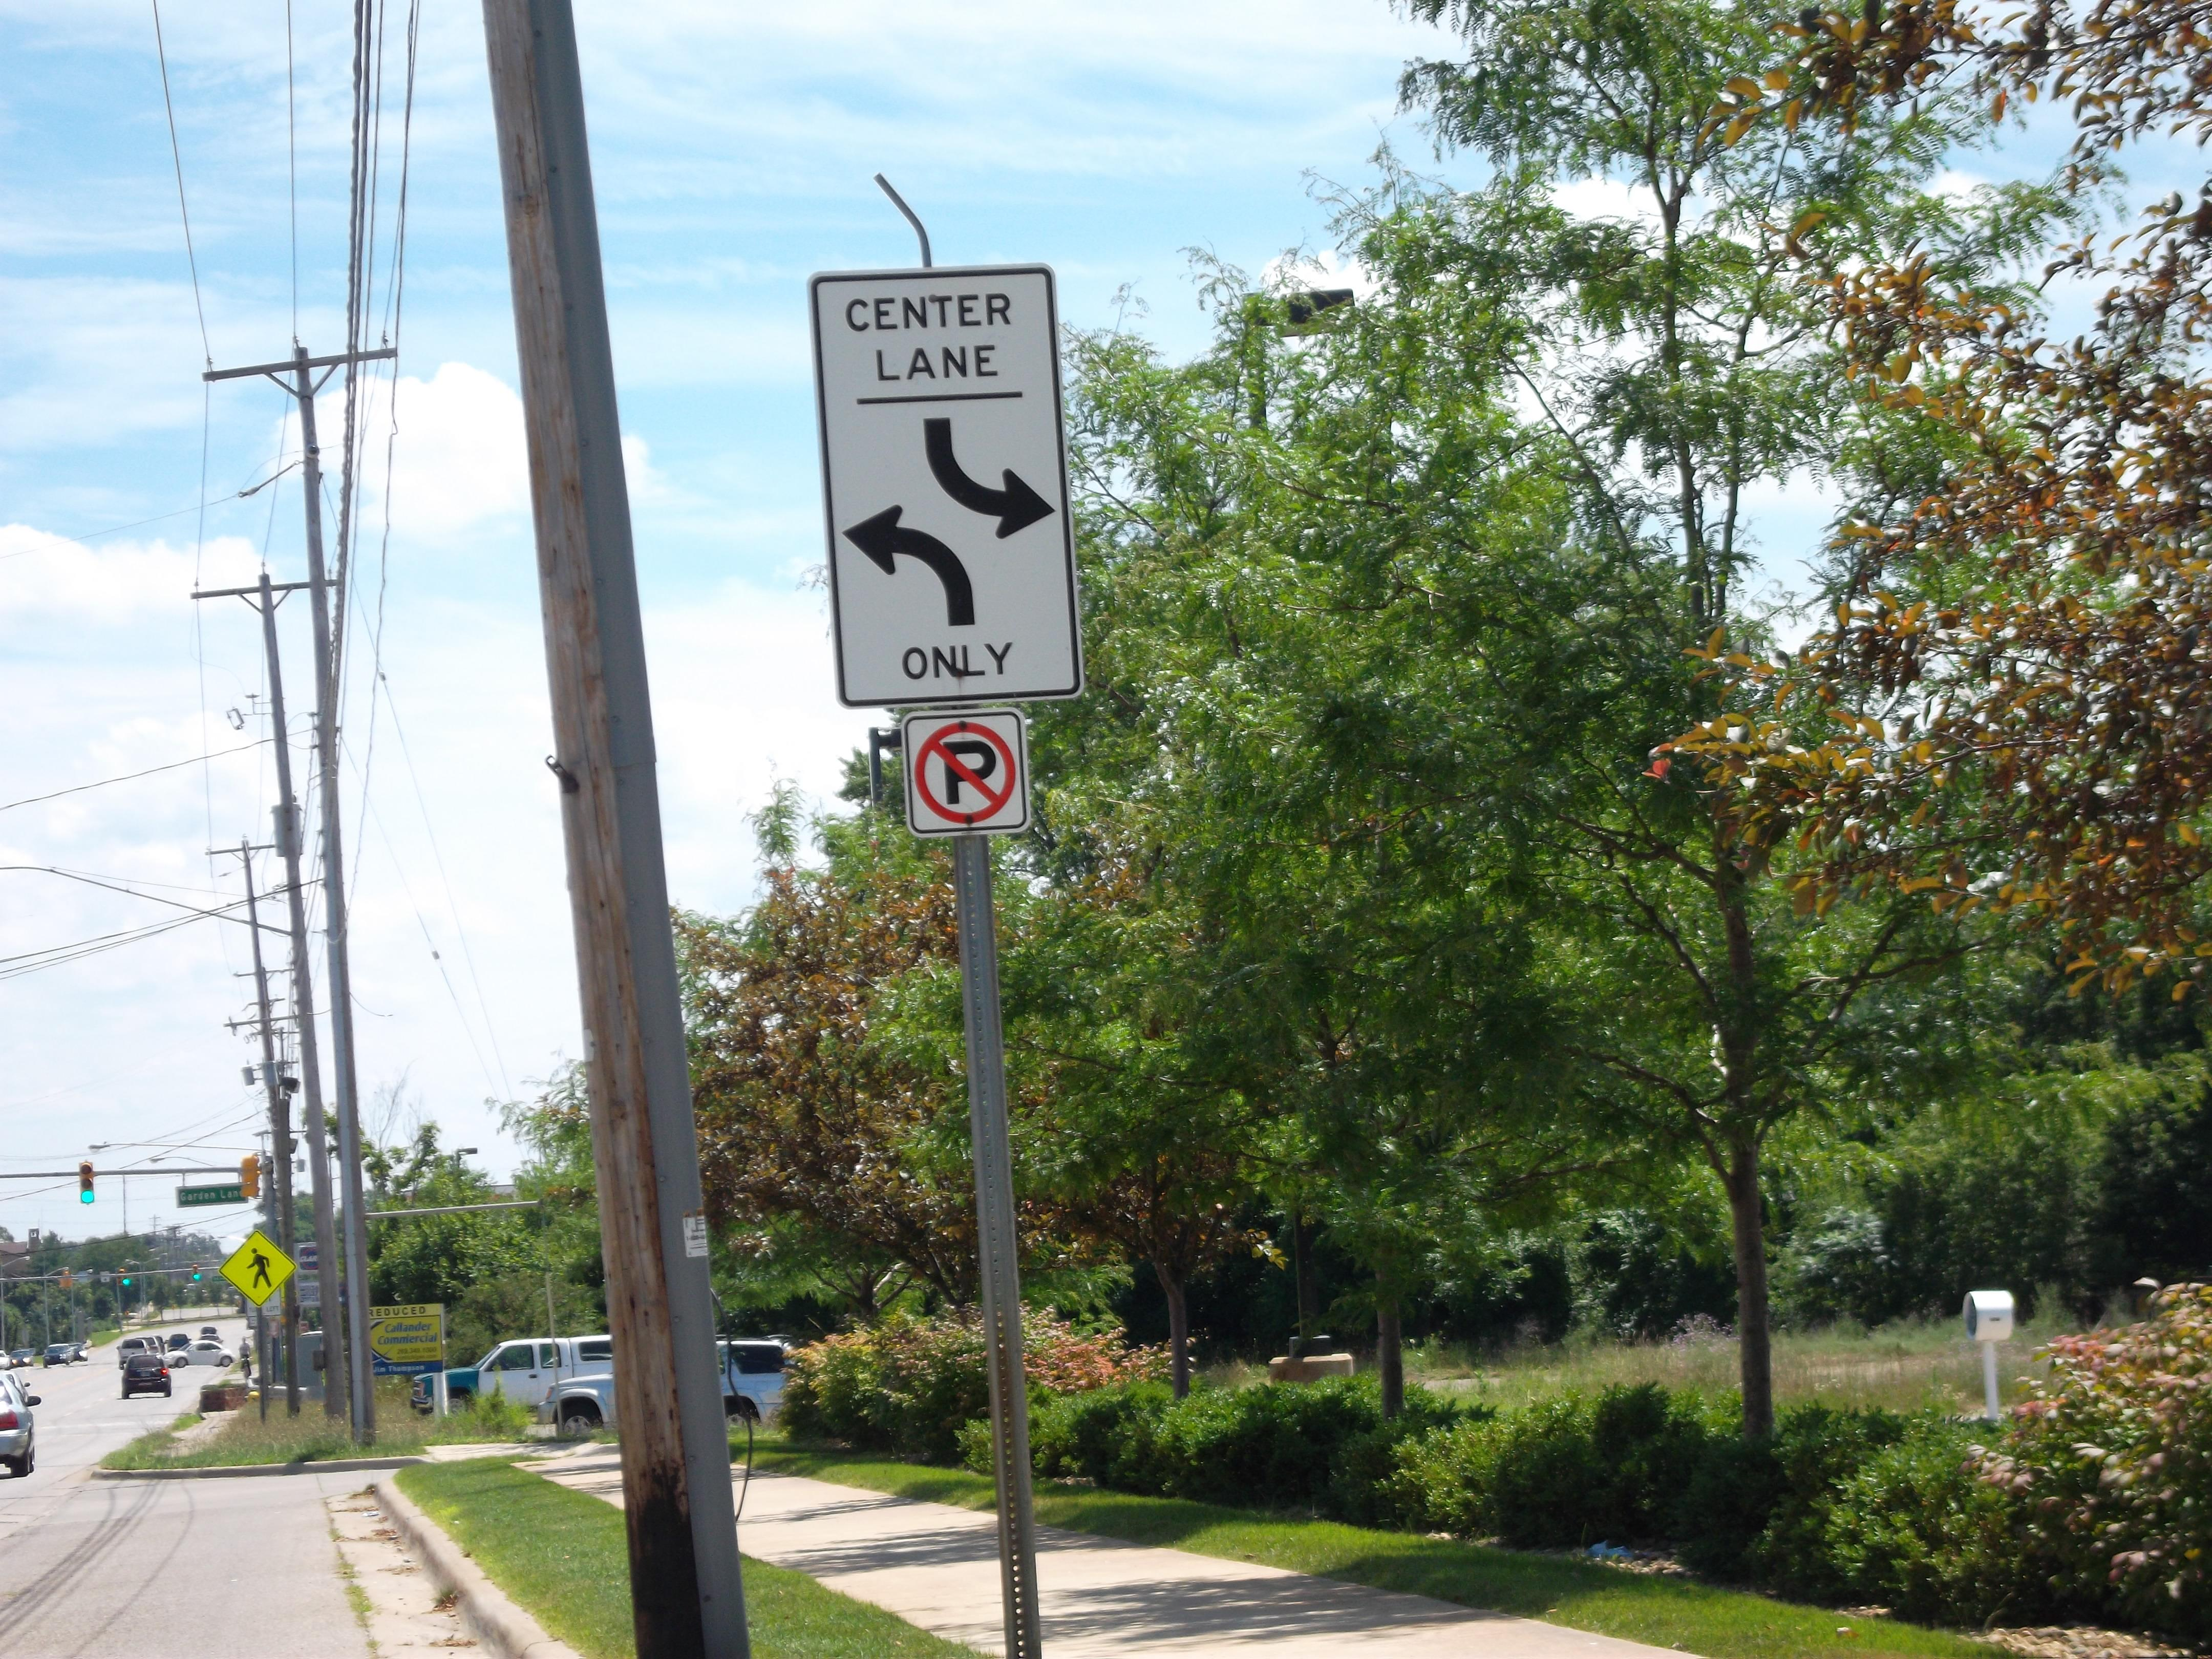regulatory: (796, 260, 1109, 730), (887, 678, 1043, 859)
warning: (216, 1225, 307, 1330)
